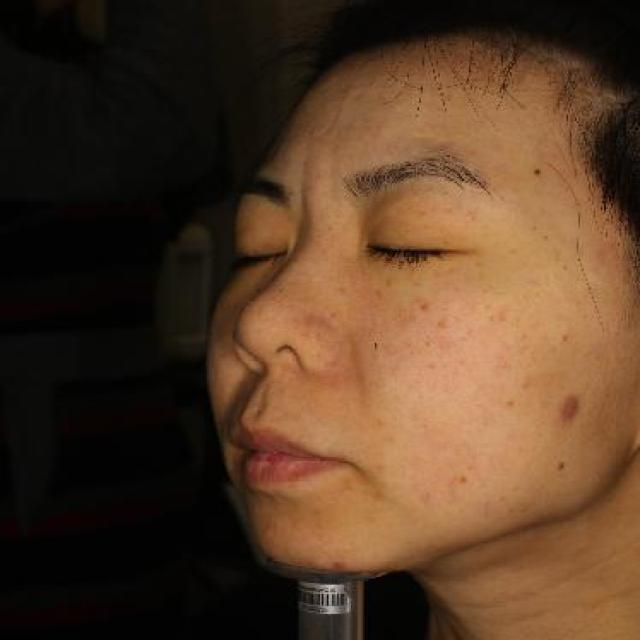Acne: (553, 392, 587, 423), (515, 372, 539, 396), (414, 296, 436, 316), (499, 397, 518, 411), (433, 318, 447, 331), (455, 476, 471, 486)
Blackheads: (528, 162, 546, 178)
